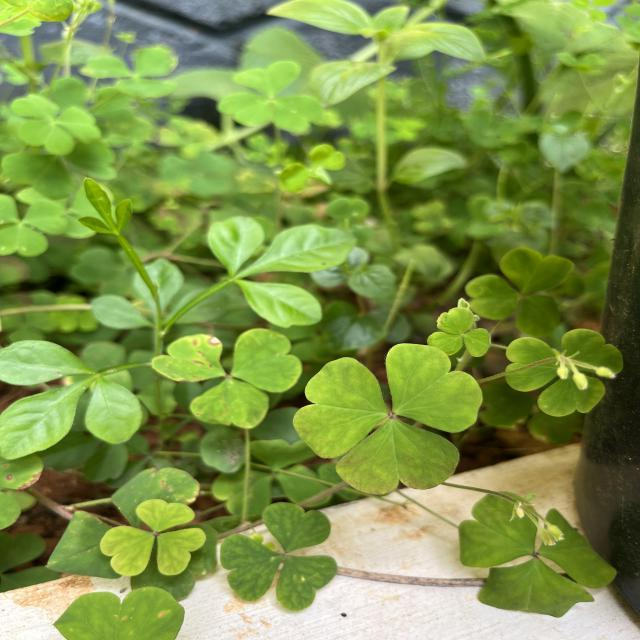Oxalis corniculata: (290, 341, 484, 497), (151, 326, 304, 431), (218, 501, 338, 612), (464, 248, 575, 336), (98, 498, 208, 578), (426, 307, 492, 358)
